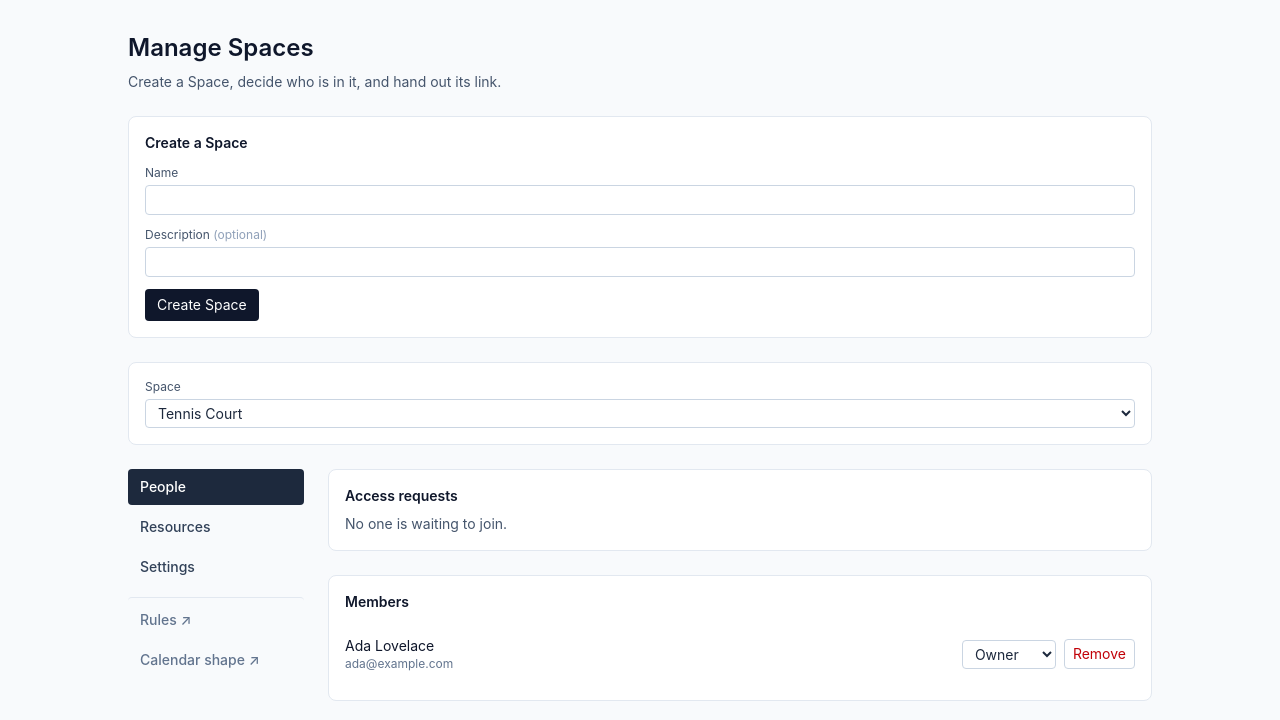
Test: AdminPage › shows Settings — including the share link and archive — only once selected
The image size is (1280, 720).
Expected: the element with test id "requests-panel" is shown, [328,469,1152,551]
Click the button with test id "admin-nav-settings". click: [216, 567]
box: [128,549,304,585]
(page scrolled)
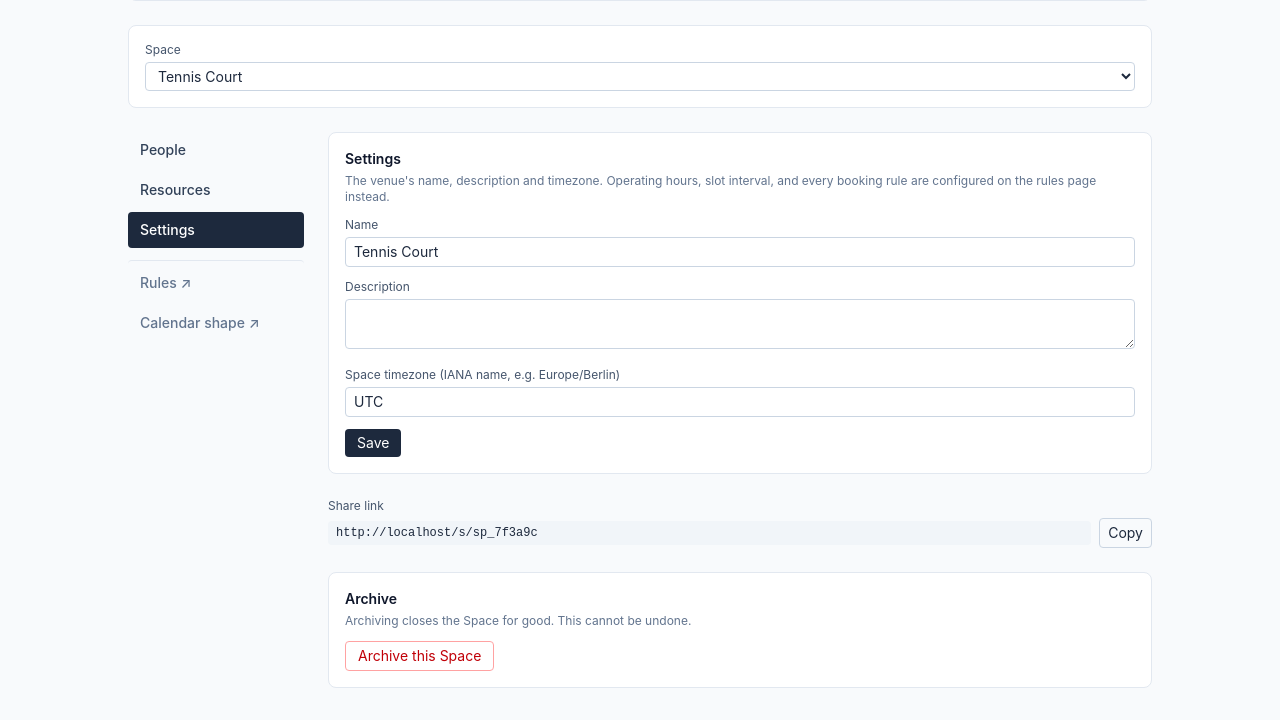
Result: the element with test id "space-settings-panel" is shown at [328,132,1152,474]
Result: the text with test id "share-link" shows "/s/sp_7f3a9c" at [336,526,538,540]
Result: the element with test id "archive-panel" is shown at [328,572,1152,688]
